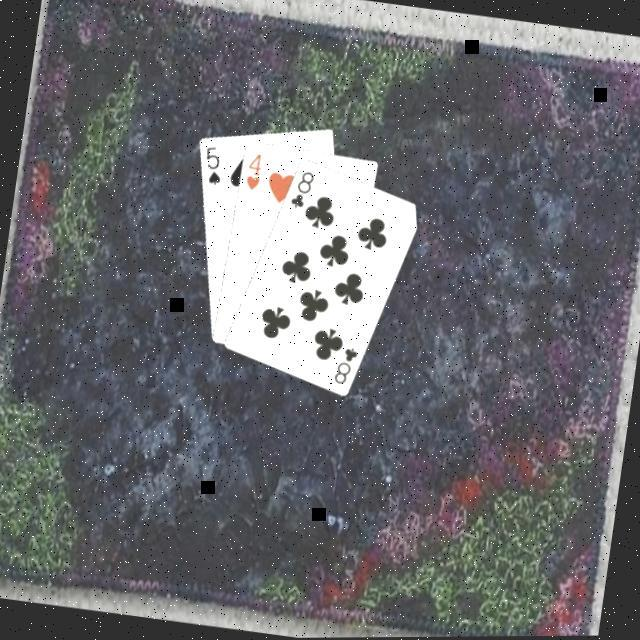4H: (240, 148, 266, 192)
5S: (197, 141, 227, 188)
8C: (328, 342, 361, 388), (286, 165, 318, 212)
